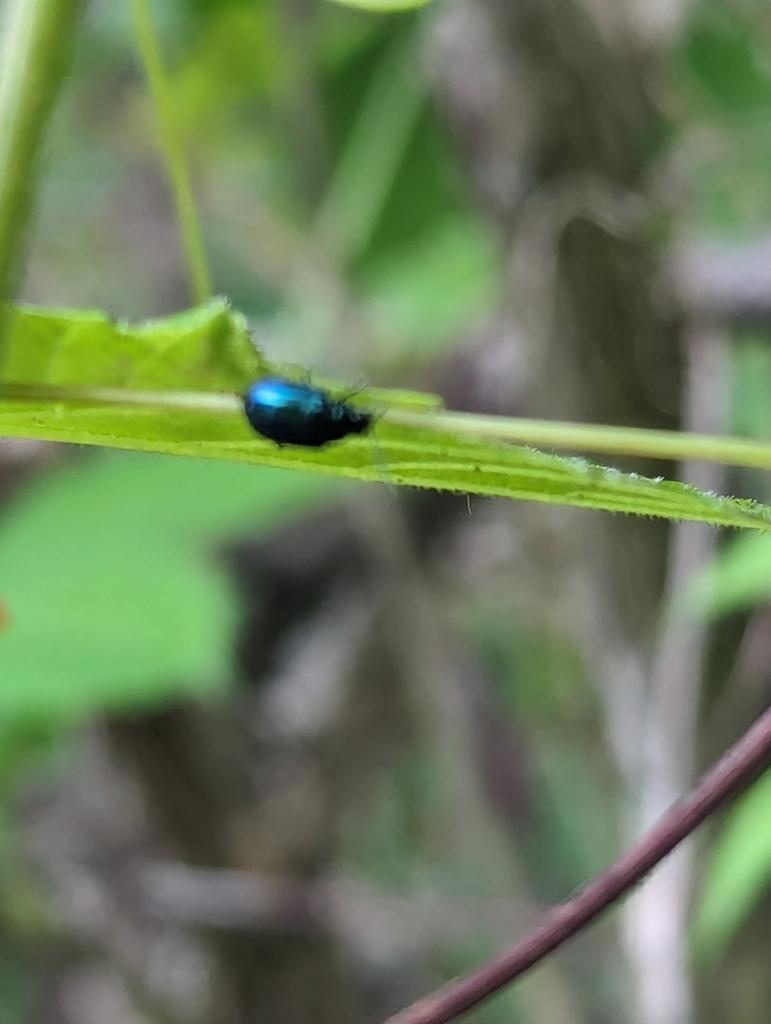flea_beetle: (218, 346, 409, 491)
